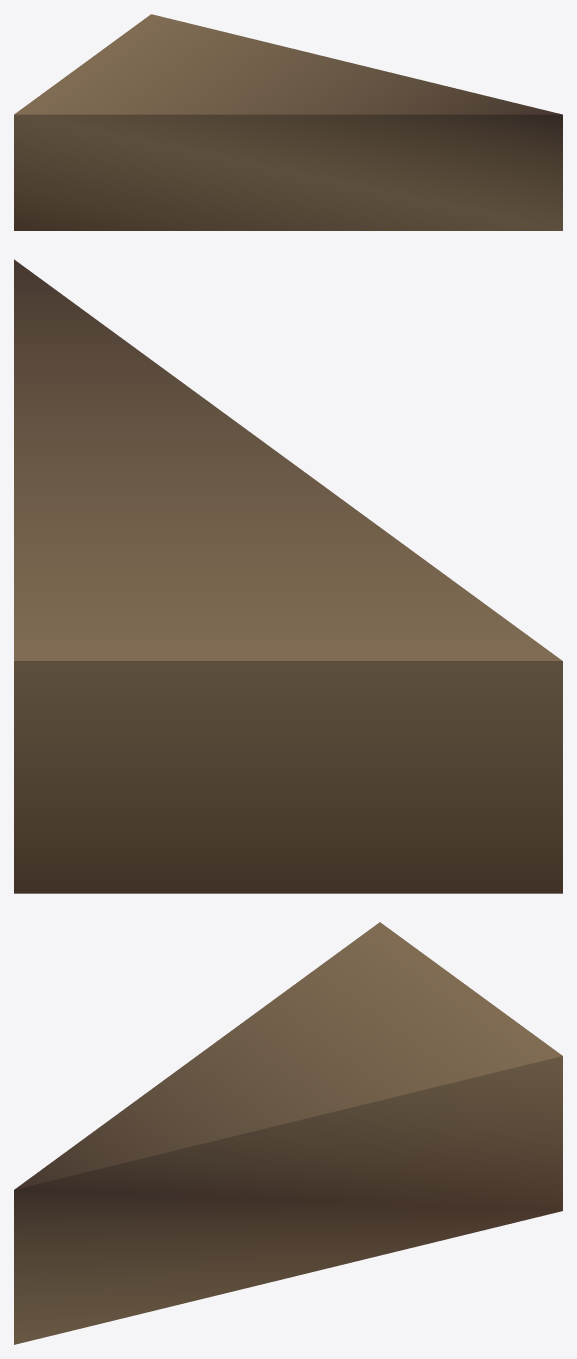
The model's file is Girth_wood_wedge.glb.
3 renders of one model, top to bottom at view 1: azimuth 30°, elevation 25°; view 2: azimuth 150°, elevation 25°; view 3: azimuth 270°, elevation 25°, orthographic. The views are drawn at different scales.
Visible parts, largest first — view 1: Cylinder; view 2: Cylinder; view 3: Cylinder.
Part boxes in pixels (x1=…): Cylinder: x1=14, y1=14, x2=562, y2=230; Cylinder: x1=14, y1=259, x2=562, y2=893; Cylinder: x1=14, y1=922, x2=562, y2=1344.
Bounding box in the file's own units: 1.73 × 0.4674 × 1.5.
